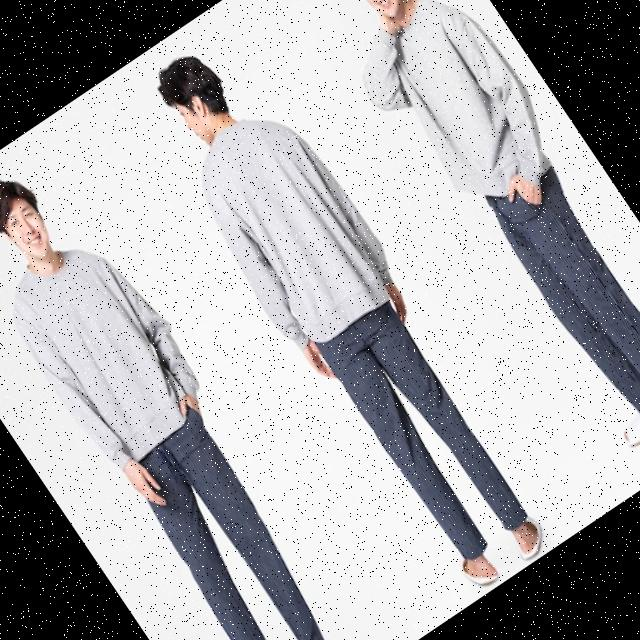Person: (120, 22, 576, 608), (0, 144, 391, 640), (287, 0, 640, 492)
